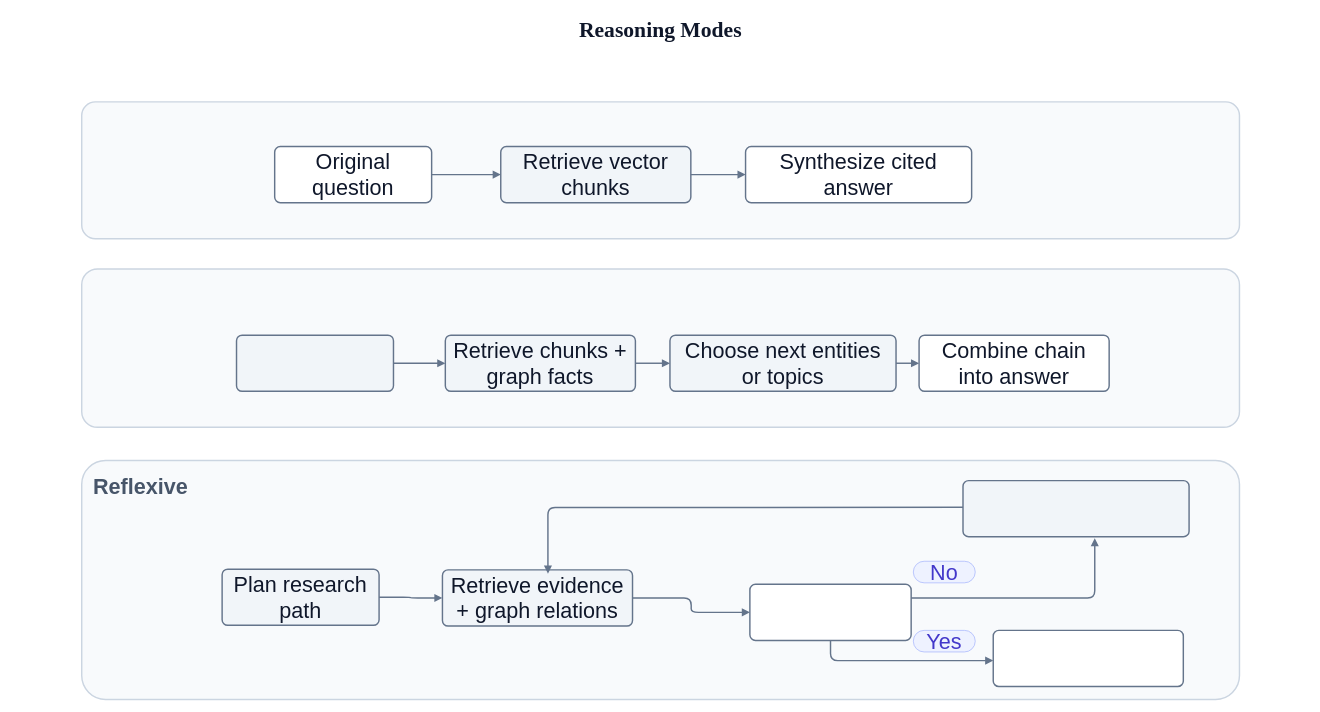
This 1320x712 diagram has some shape labels left out. Each missing label, with the box of its shape:
Chain of Thought: (81, 268, 1240, 428)
Evidence sufficient?: (749, 583, 912, 641)
Final synthesis: (992, 629, 1184, 687)
Plan sub-questions: (235, 334, 394, 392)
RAG: (81, 101, 1240, 239)
Search missing evidence: (962, 480, 1189, 537)
